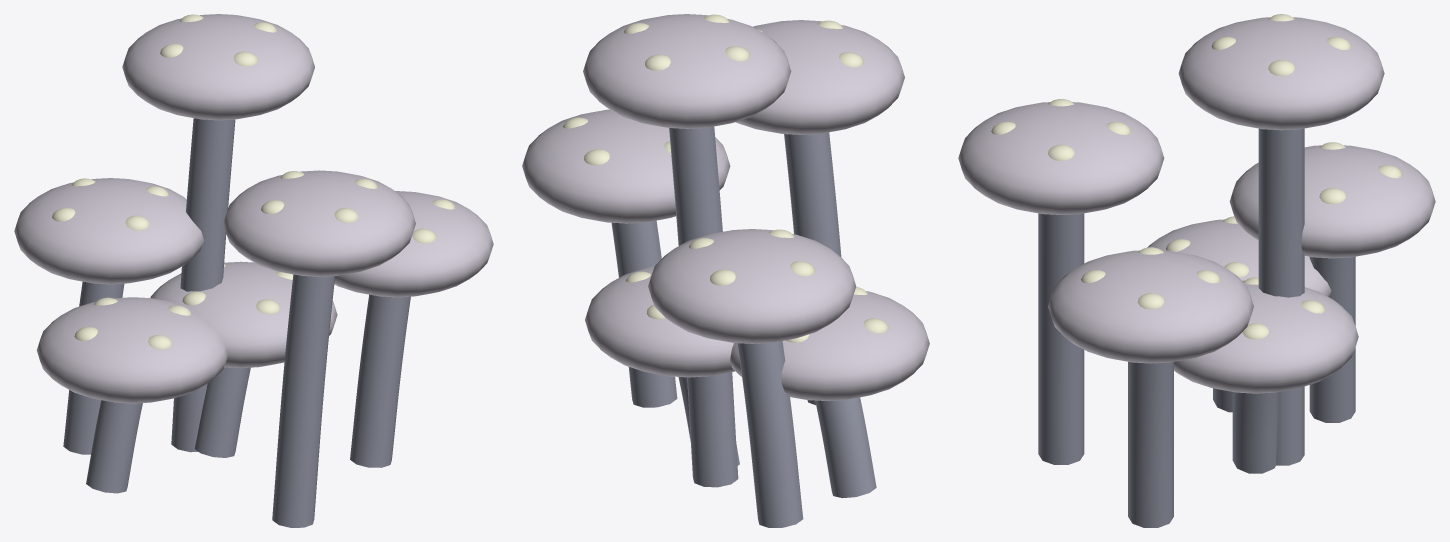
The model's file is bio_spore_fungus_01_near.glb.
3 renders of one model, left to right at view 1: azimuth 30°, elevation 25°; view 2: azimuth 150°, elevation 25°; view 3: azimuth 270°, elevation 25°, orthographic. The views are drawn at different scales.
Parts seen in each view (by area): view 1: Thick umbrella cap.002, Thick umbrella cap.003, Thick umbrella cap.004, Thick umbrella cap.001, Curved stipe.002, Thick umbrella cap.005, Curved stipe.003, Thick umbrella cap, Curved stipe.005, Curved stipe.004, Curved stipe, Curved stipe.001 (+5 smaller); view 2: Thick umbrella cap.001, Thick umbrella cap.003, Thick umbrella cap.005, Thick umbrella cap.002, Thick umbrella cap.004, Curved stipe.003, Thick umbrella cap, Curved stipe.001, Curved stipe.002, Curved stipe.004, Curved stipe.005, Cap nodule.004 (+4 smaller); view 3: Thick umbrella cap.005, Thick umbrella cap.003, Thick umbrella cap.002, Thick umbrella cap.001, Thick umbrella cap, Curved stipe.003, Curved stipe.002, Curved stipe.005, Curved stipe.001, Thick umbrella cap.004, Curved stipe, Cap nodule.020 (+5 smaller).
Boxes of the visible parts, x1,y1,x2,y2 form: Thick umbrella cap.002: (223, 170, 415, 276); Thick umbrella cap.003: (122, 14, 314, 120); Thick umbrella cap.004: (36, 297, 227, 403); Thick umbrella cap.001: (14, 178, 204, 284); Curved stipe.002: (272, 274, 334, 527); Thick umbrella cap.005: (334, 191, 493, 297); Curved stipe.003: (171, 118, 235, 452); Thick umbrella cap: (150, 261, 337, 368); Curved stipe.005: (350, 294, 410, 467); Curved stipe.004: (86, 400, 142, 493); Curved stipe: (194, 367, 250, 457); Curved stipe.001: (63, 281, 124, 454); Thick umbrella cap.001: (648, 229, 856, 343); Thick umbrella cap.003: (583, 14, 791, 128); Thick umbrella cap.005: (522, 109, 730, 223); Thick umbrella cap.002: (735, 20, 904, 134); Thick umbrella cap.004: (730, 291, 929, 400); Curved stipe.003: (669, 126, 738, 487); Thick umbrella cap: (585, 266, 734, 377); Curved stipe.001: (737, 341, 803, 527); Curved stipe.002: (784, 132, 841, 405); Curved stipe.004: (815, 397, 876, 498); Curved stipe.005: (611, 220, 677, 407); Cap nodule.004: (689, 229, 815, 285); Thick umbrella cap.005: (1048, 250, 1253, 363); Thick umbrella cap.003: (1178, 17, 1384, 130); Thick umbrella cap.002: (958, 102, 1164, 214); Thick umbrella cap.001: (1229, 145, 1435, 258); Thick umbrella cap: (1174, 280, 1358, 393); Curved stipe.003: (1258, 128, 1304, 465); Curved stipe.002: (1038, 213, 1084, 464); Curved stipe.005: (1128, 362, 1173, 527); Curved stipe.001: (1309, 256, 1355, 422); Thick umbrella cap.004: (1147, 219, 1331, 296); Curved stipe: (1232, 392, 1278, 473); Cap nodule.020: (1081, 247, 1220, 309).
Bounding box in the file's own units: 1.78 × 1.78 × 1.76.
